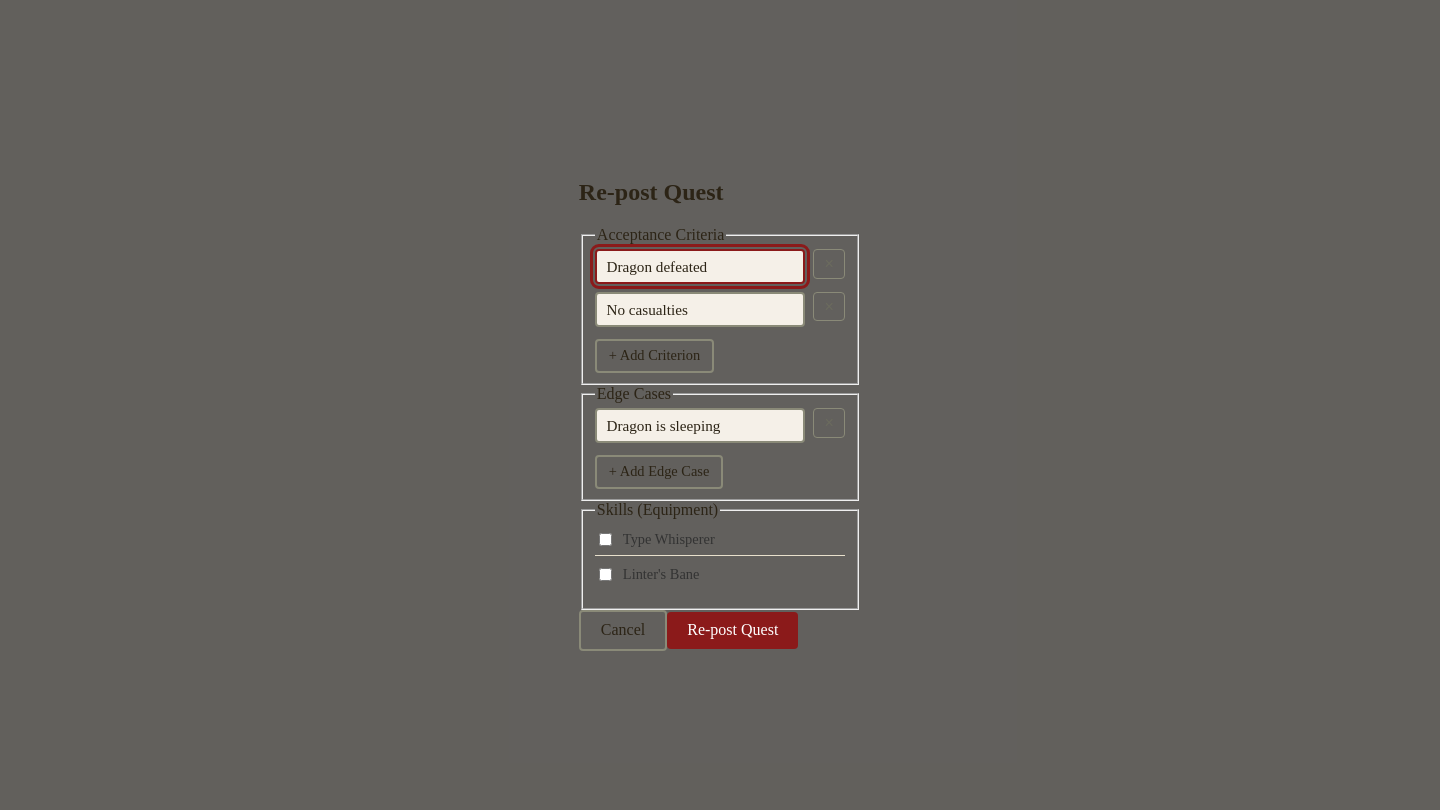
it: RepostDialog › can remove a criterion
The width and height of the screenshot is (1440, 810).
Click the button named "remove criterion" at [829, 264], box 813,249 -> 845,279
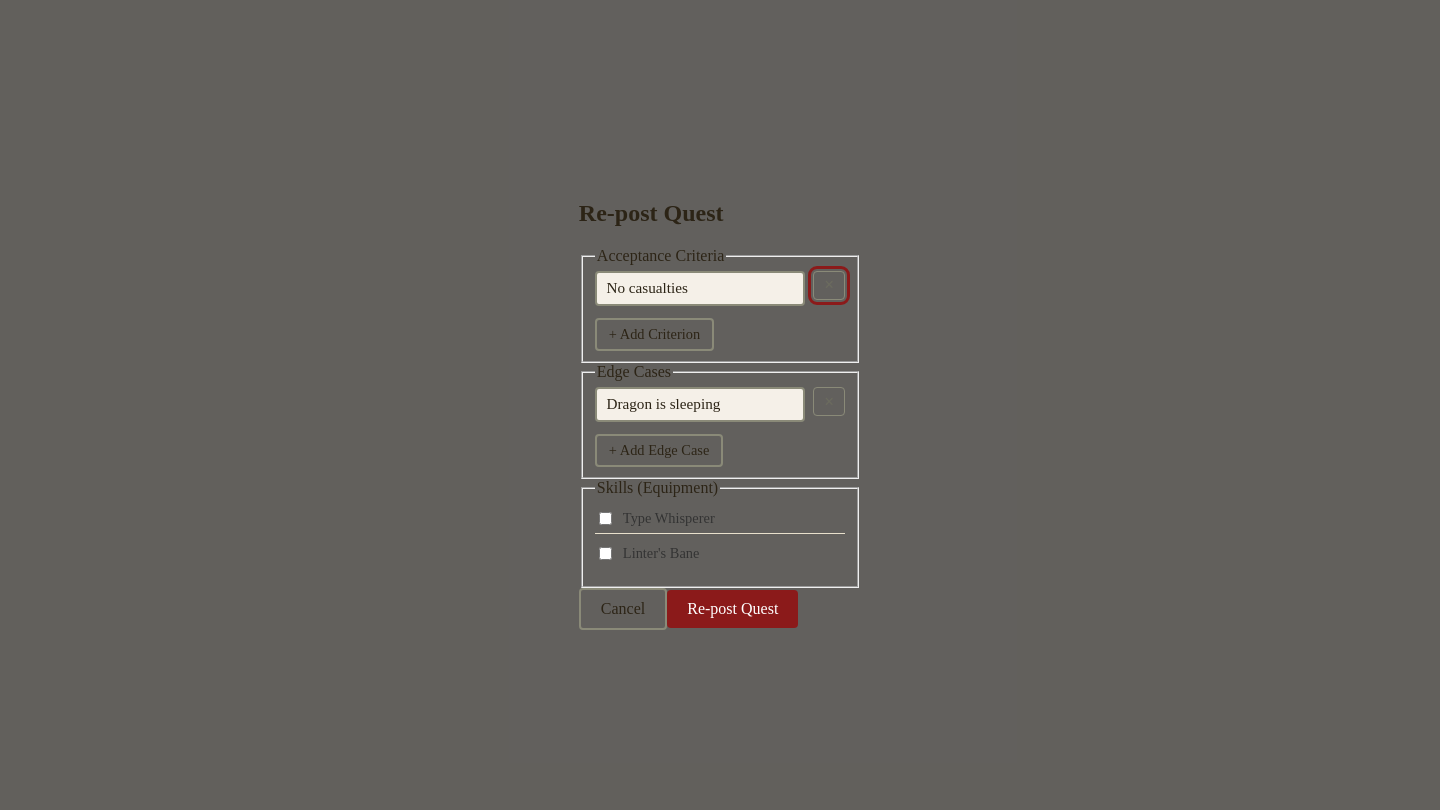
Expected: the number of fields is 2, 595,271 -> 805,306; 595,387 -> 805,422
